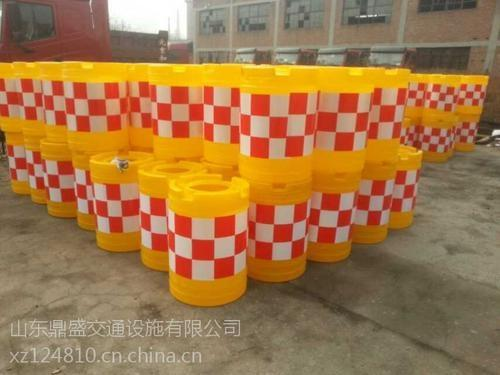cone_barrel: (168, 177, 246, 306), (239, 63, 314, 183), (141, 159, 203, 270), (246, 177, 308, 280), (313, 64, 370, 175), (90, 149, 145, 251), (63, 63, 126, 149), (150, 60, 199, 158), (307, 174, 353, 260), (367, 63, 408, 158), (203, 62, 239, 166), (354, 161, 391, 243), (389, 145, 421, 229), (39, 138, 73, 216), (28, 60, 62, 134), (3, 132, 29, 195), (420, 113, 453, 159), (25, 134, 45, 204), (424, 70, 456, 113), (456, 74, 487, 110), (455, 111, 479, 151)
